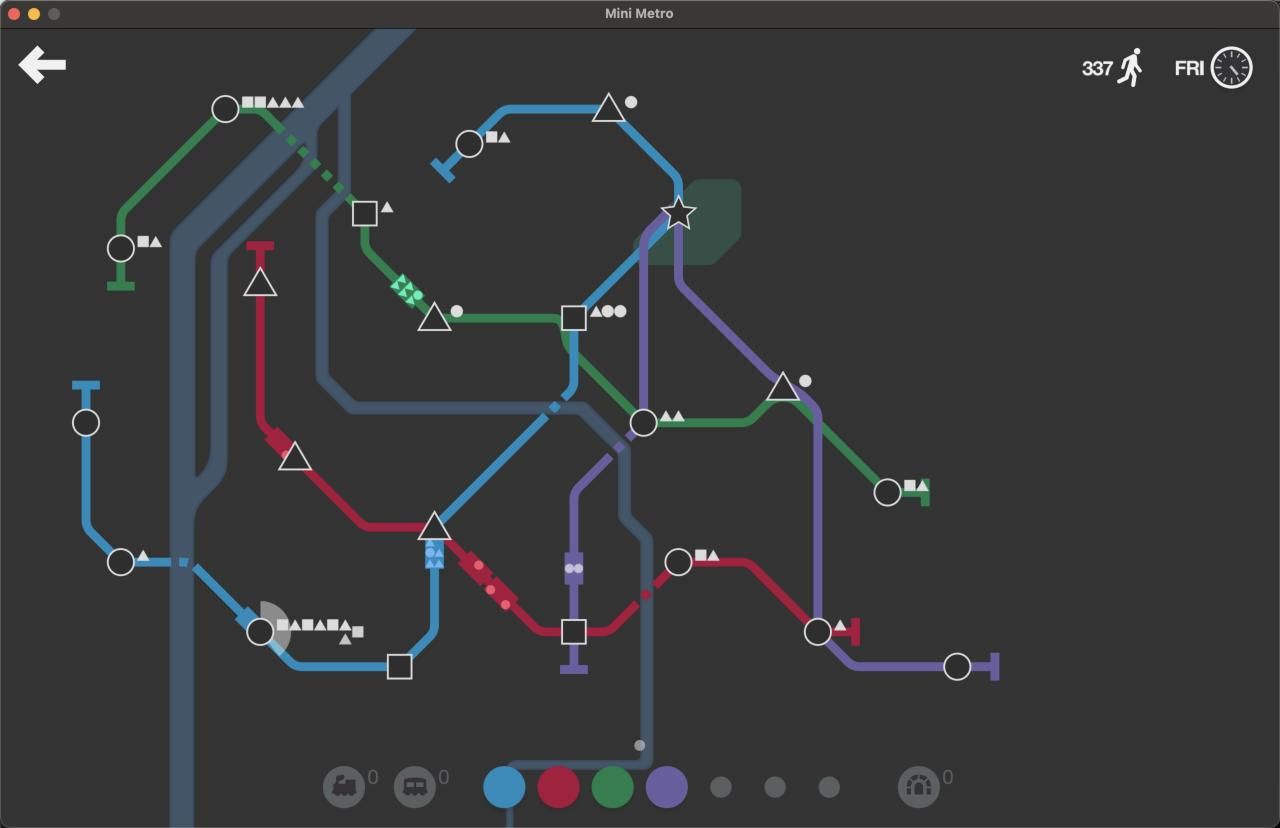CIRCLE: (106, 547, 136, 577), (873, 477, 902, 507), (211, 94, 240, 124), (628, 408, 658, 437), (455, 129, 484, 159), (106, 233, 135, 263), (803, 617, 832, 646), (72, 408, 101, 437), (246, 617, 274, 647), (664, 547, 692, 577), (943, 652, 971, 681)
SQUARE: (560, 617, 588, 645), (351, 199, 379, 227), (386, 653, 413, 681), (560, 305, 588, 332)
STAR: (659, 196, 697, 231)
TRIANGLE: (416, 300, 454, 333), (277, 439, 313, 472), (417, 509, 452, 542), (590, 91, 625, 123), (242, 267, 279, 297), (765, 371, 800, 401)
